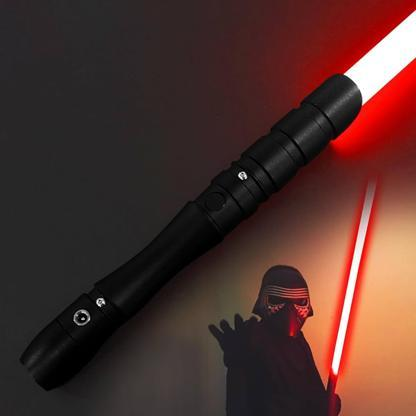person: (212, 262, 326, 416)
sith_lightsaber: (14, 0, 416, 397), (324, 171, 378, 416)
